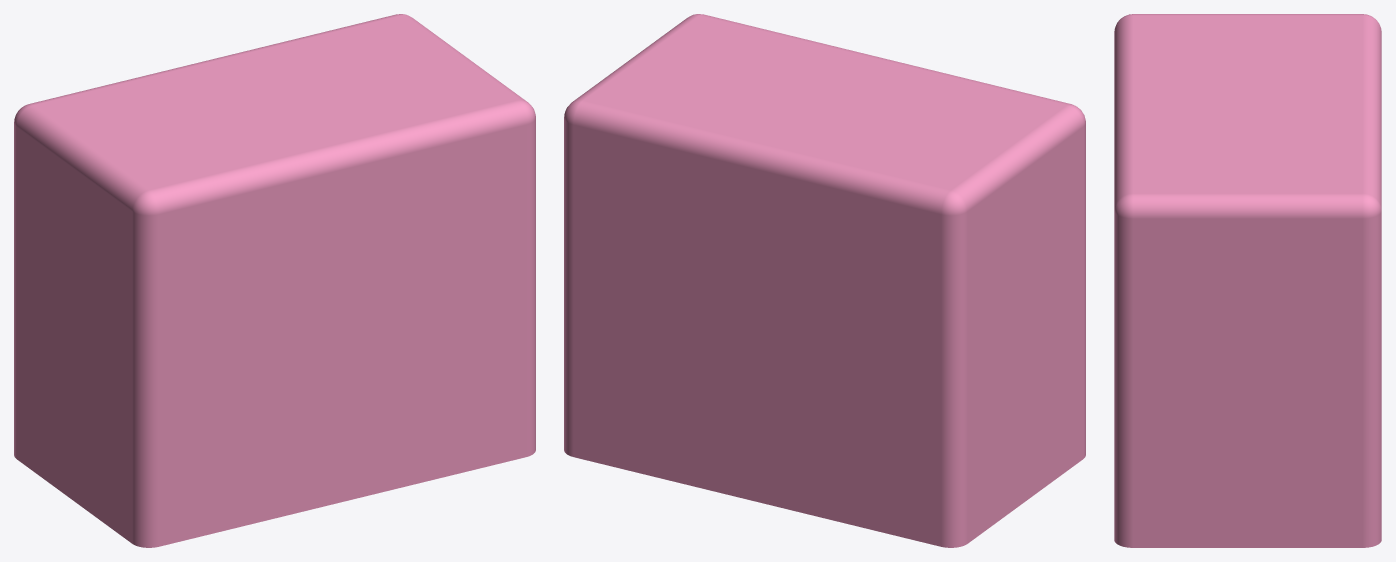
File: midi_button_pink.glb
3 renders of one model, left to right at view 1: azimuth 30°, elevation 25°; view 2: azimuth 150°, elevation 25°; view 3: azimuth 270°, elevation 25°, orthographic.
Bounding box in the file's own units: 0.024 × 0.02 × 0.014.
